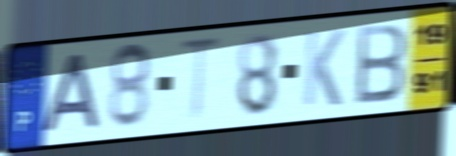8: (105, 41, 155, 134), (235, 32, 280, 119)
A: (38, 51, 103, 137)
B: (354, 20, 410, 107)
K: (300, 27, 348, 110)
T: (177, 34, 225, 127)
